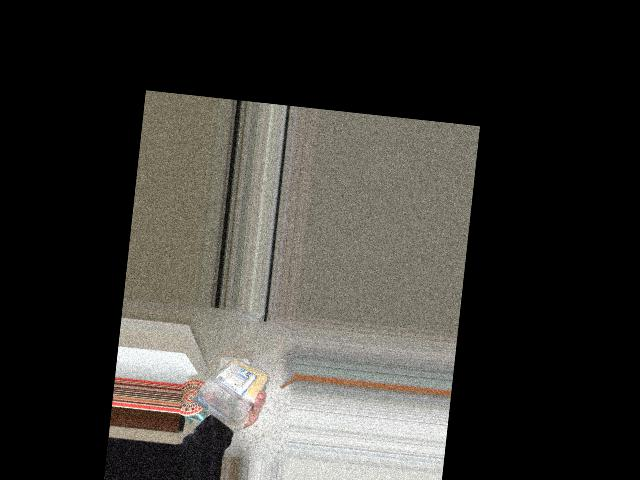cheese: (189, 348, 262, 429)
